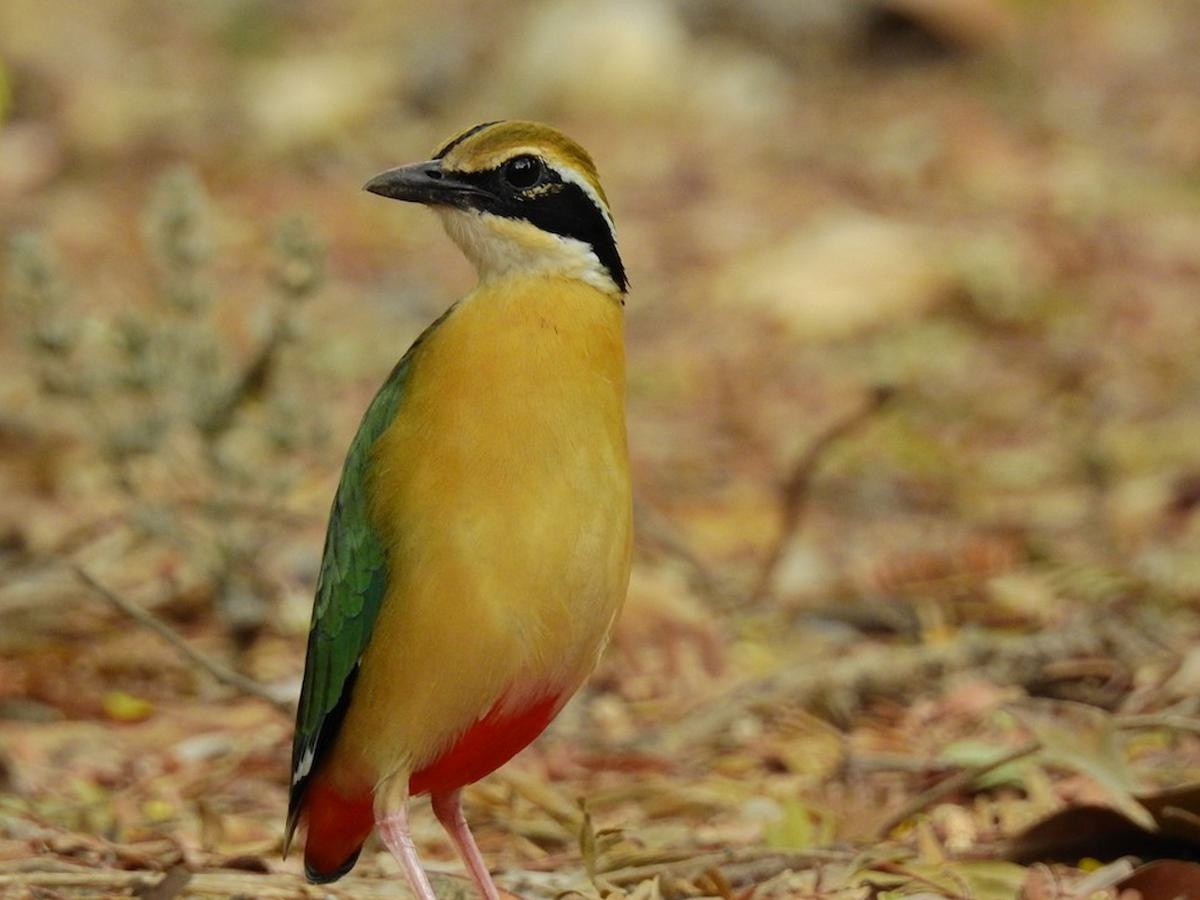pitta: (188, 112, 658, 900)
